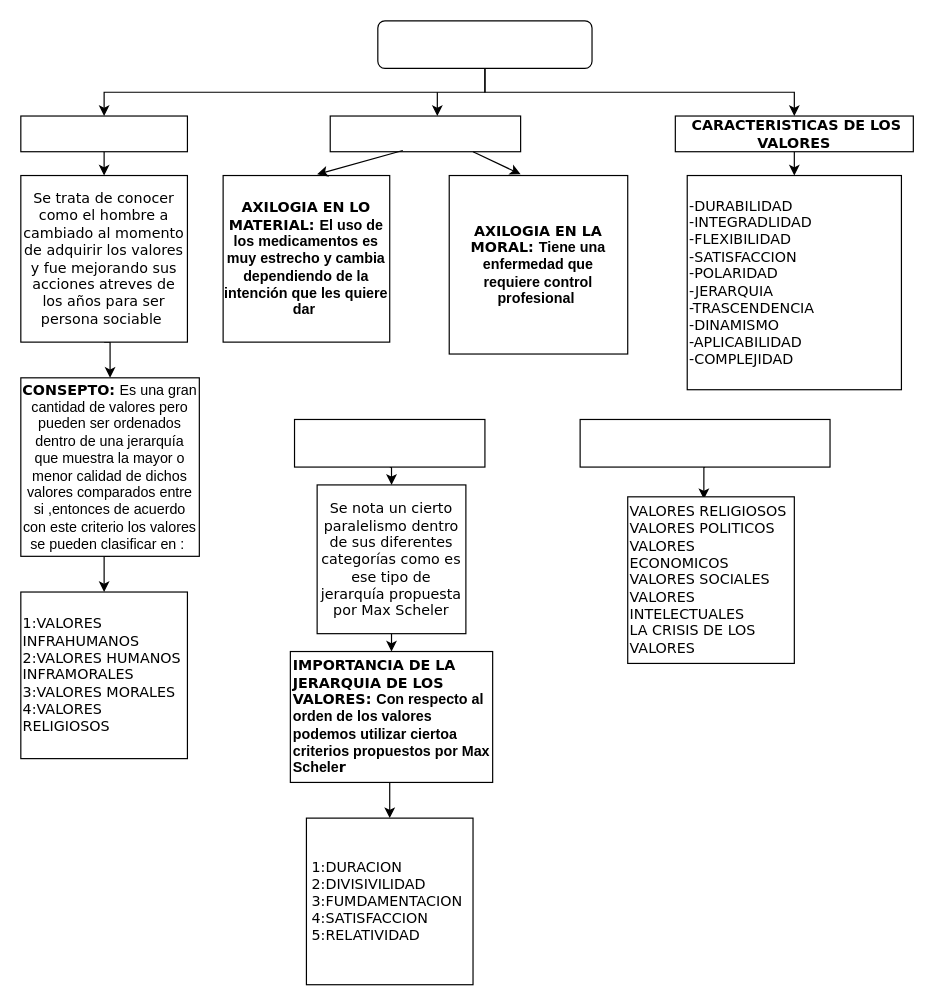
The diagram is 934 pixels wide and 1006 high, and some of its shapes have lost their labels. Each missing label, with the centre of its shape:
"CLASES DE VALORES" goes at point (704, 442).
"EJEMPLOS DE LA AXIOLOGIA" goes at point (425, 133).
"INTRODUCCION" goes at point (103, 133).
"LA JERARQUIA DE MAX SCHELER" goes at point (389, 442).
"TEORIA DE LOS VALORES" goes at point (484, 44).
